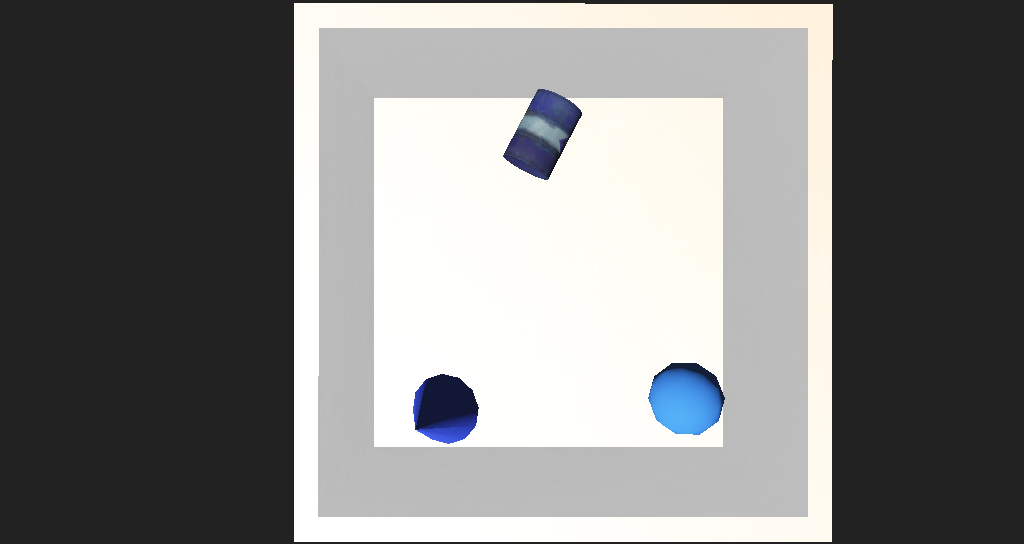cone: (465, 155, 532, 217)
cylinder: (350, 329, 445, 387)
sphere: (586, 320, 653, 367)
